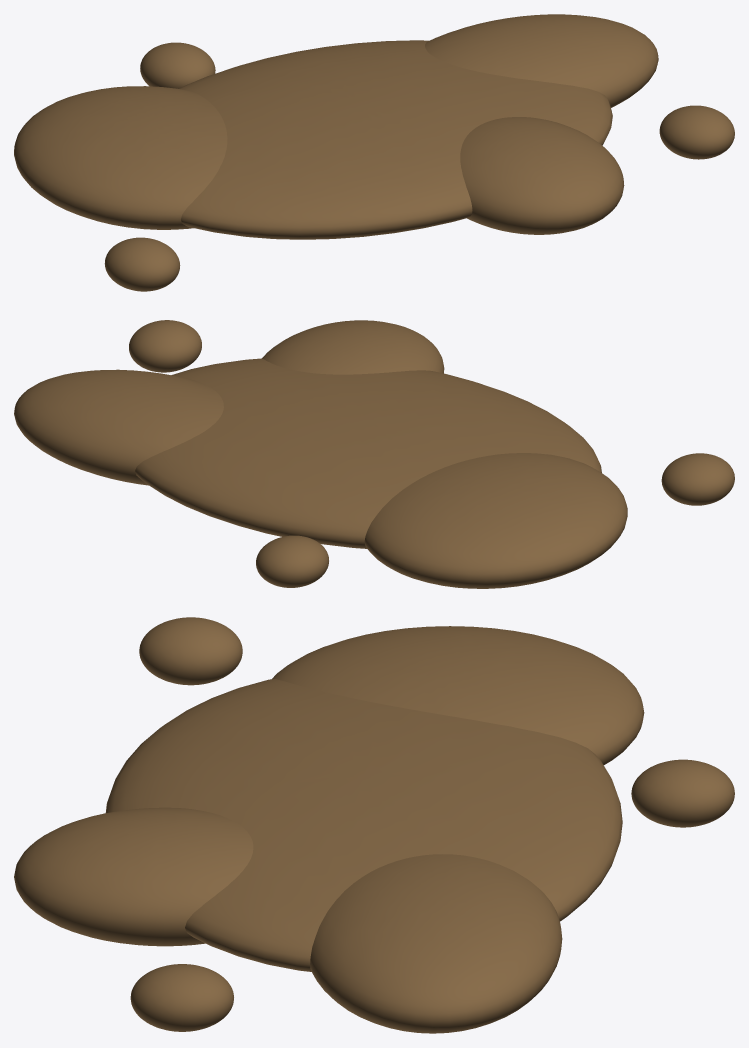
File: material-mud-patch.glb
3 views of the same model, one above another, from view 1: azimuth 30°, elevation 25°; view 2: azimuth 150°, elevation 25°; view 3: azimuth 270°, elevation 25° (orthographic). The views are drawn at different scales.
Visible parts, largest first — view 1: Mud lobe, Mud lobe.001, Mud lobe.003, Mud lobe.002, Mud fleck.001, Mud fleck, Mud fleck.002; view 2: Mud lobe, Mud lobe.001, Mud lobe.002, Mud lobe.003, Mud fleck, Mud fleck.001, Mud fleck.002; view 3: Mud lobe, Mud lobe.002, Mud lobe.001, Mud lobe.003, Mud fleck, Mud fleck.002, Mud fleck.001.
Part boxes in pixels (left/top/right/bottom): Mud lobe: left=179, top=40, right=612, bottom=239; Mud lobe.001: left=14, top=86, right=227, bottom=229; Mud lobe.003: left=460, top=117, right=624, bottom=234; Mud lobe.002: left=425, top=14, right=658, bottom=107; Mud fleck.001: left=659, top=105, right=734, bottom=159; Mud fleck: left=104, top=237, right=180, bottom=291; Mud fleck.002: left=140, top=42, right=215, bottom=88; Mud lobe: left=135, top=358, right=601, bottom=548; Mud lobe.001: left=364, top=453, right=627, bottom=588; Mud lobe.002: left=14, top=369, right=223, bottom=485; Mud lobe.003: left=262, top=320, right=444, bottom=374; Mud fleck: left=661, top=453, right=734, bottom=505; Mud fleck.001: left=129, top=320, right=201, bottom=372; Mud fleck.002: left=256, top=535, right=328, bottom=587; Mud lobe: left=105, top=679, right=622, bottom=971; Mud lobe.002: left=310, top=854, right=562, bottom=1033; Mud lobe.001: left=272, top=626, right=644, bottom=764; Mud lobe.003: left=14, top=807, right=253, bottom=946; Mud fleck: left=139, top=617, right=242, bottom=685; Mud fleck.002: left=631, top=759, right=734, bottom=827; Mud fleck.001: left=130, top=964, right=233, bottom=1031.
Bounding box in the file's own units: 1.09 × 0.12 × 0.835.
